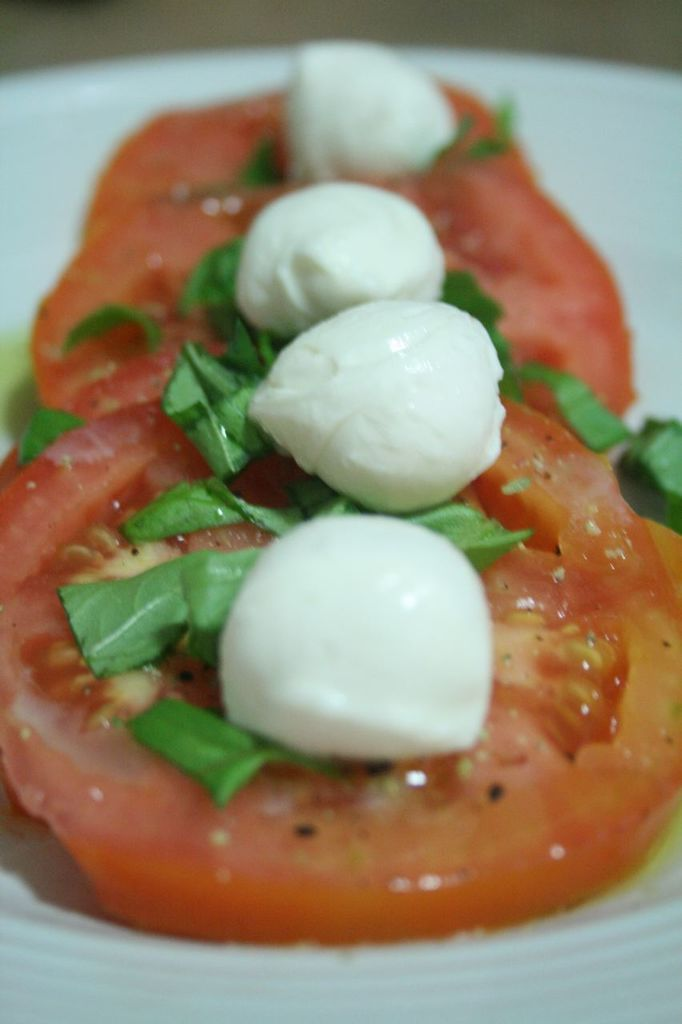Tomato: (0, 398, 681, 941), (30, 156, 630, 439), (83, 74, 529, 244), (0, 336, 232, 483)
